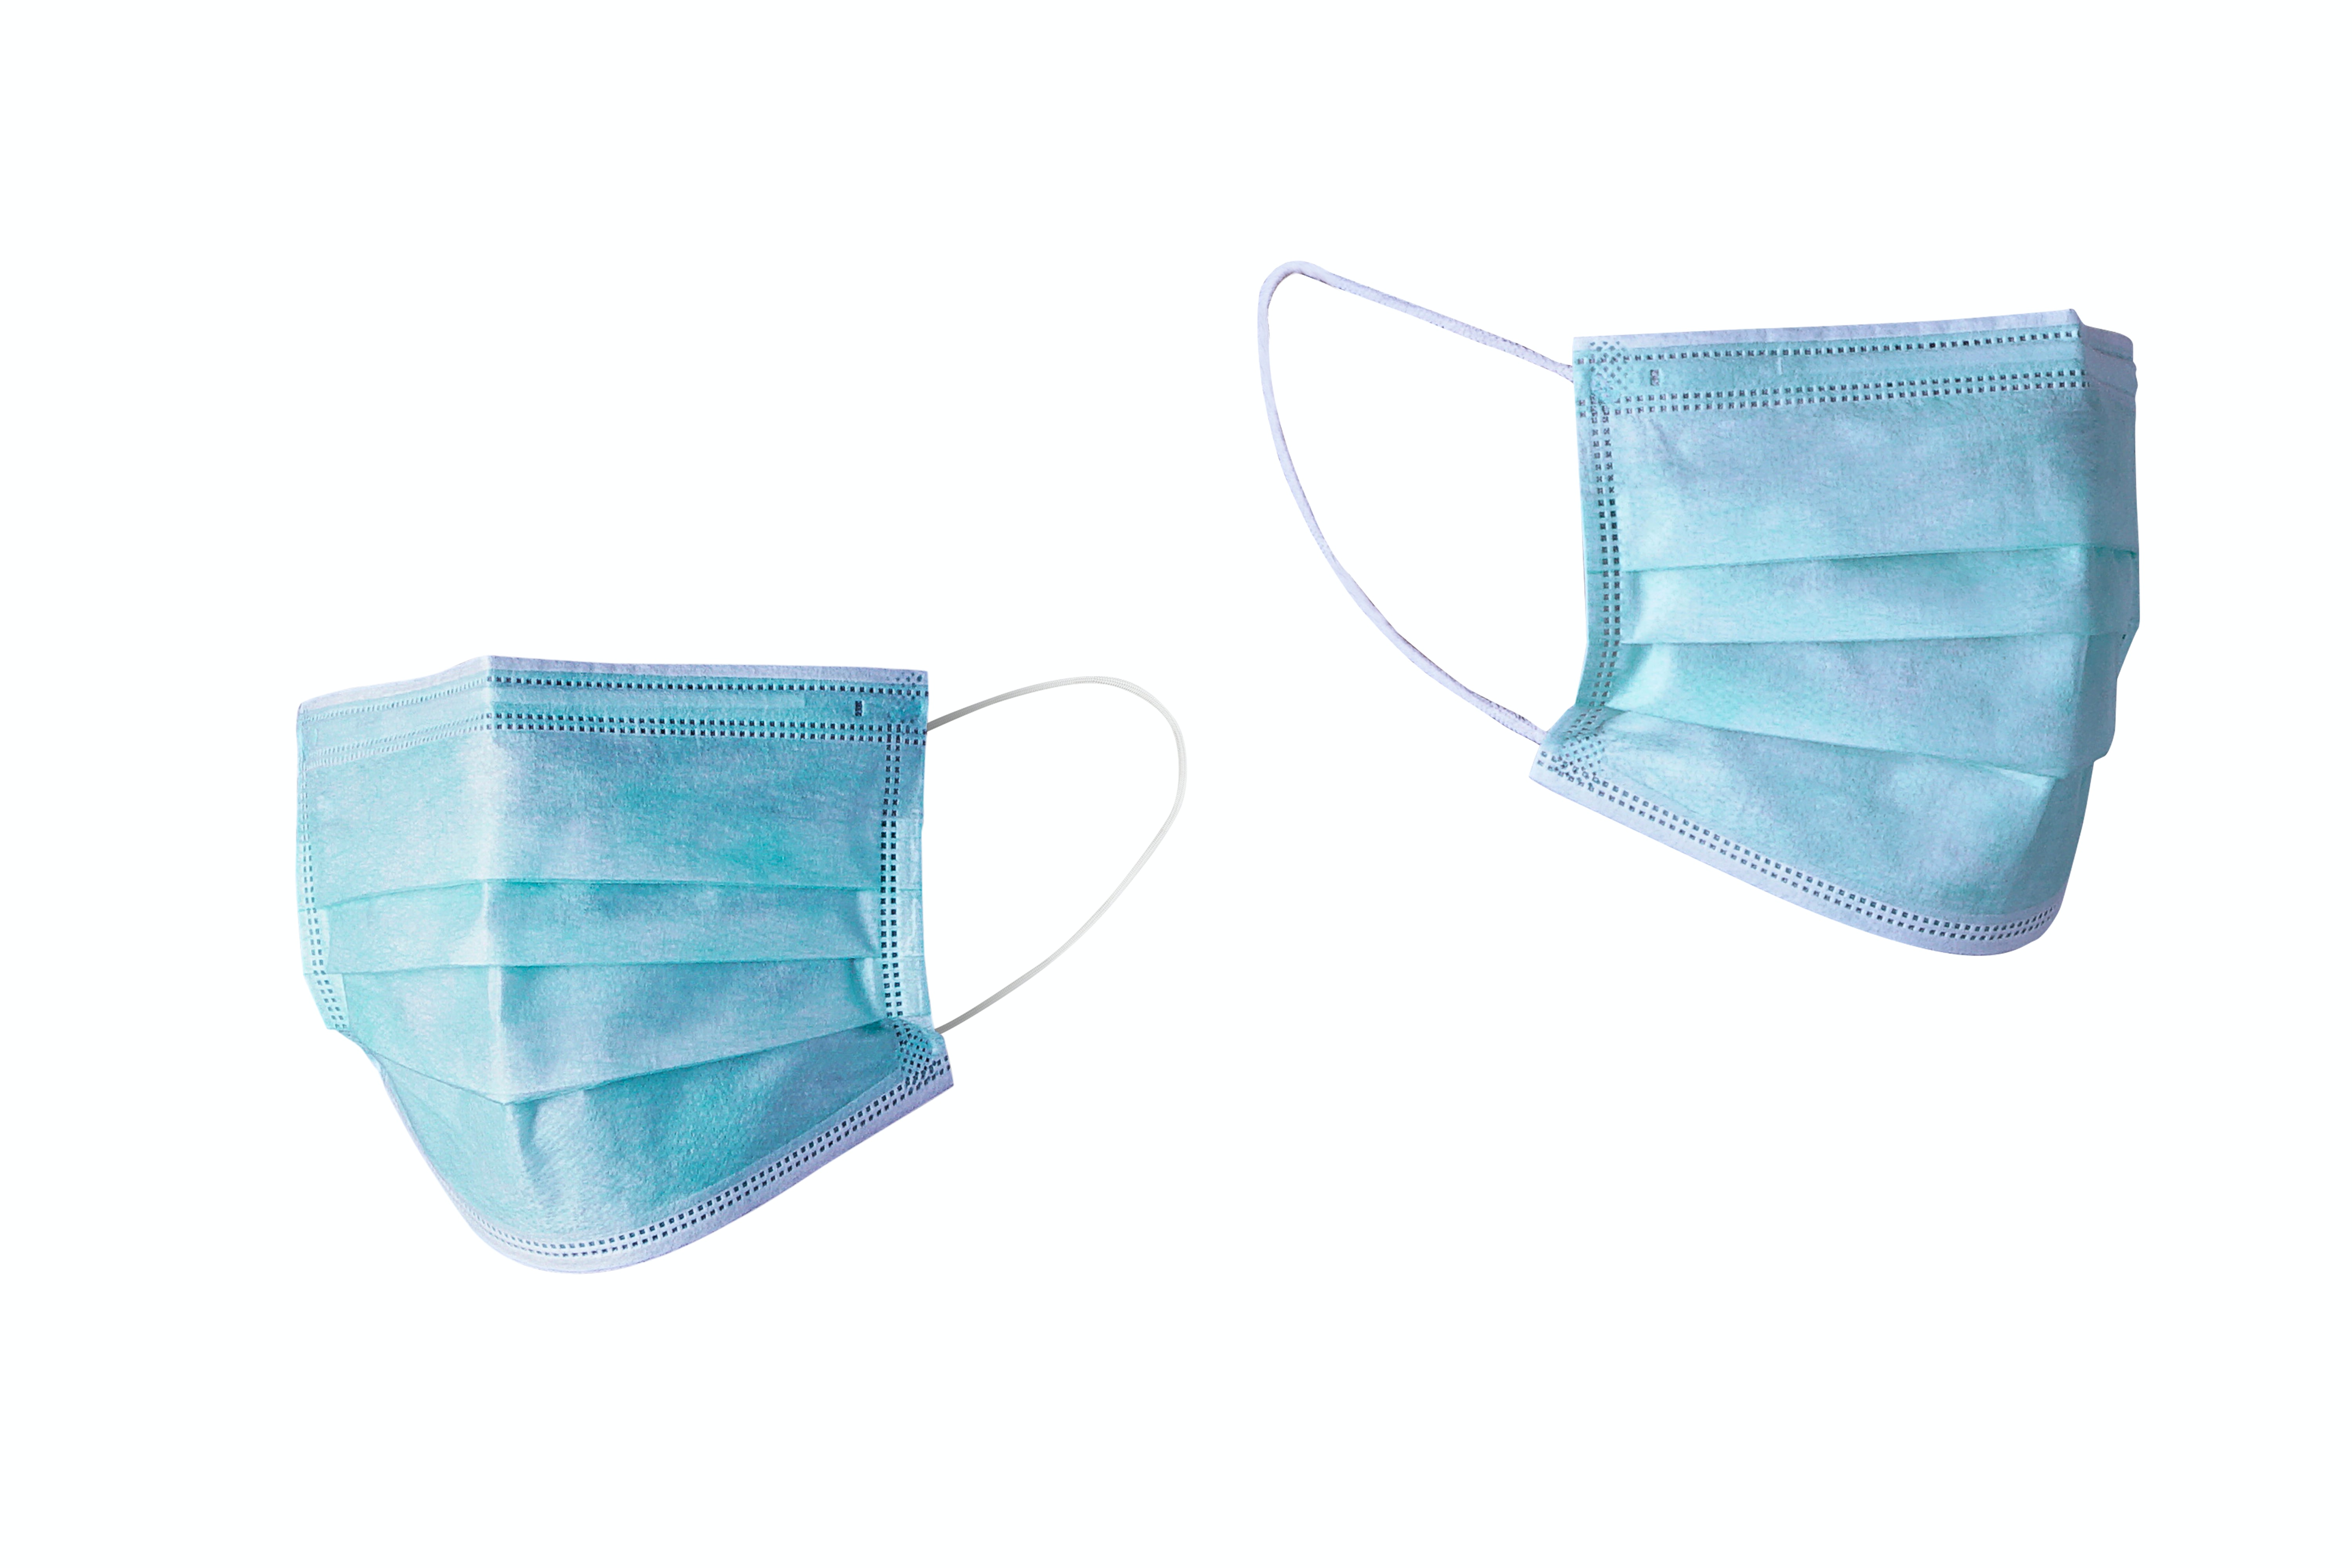mask: (1251, 224, 2268, 1003), (220, 614, 1248, 1342)
